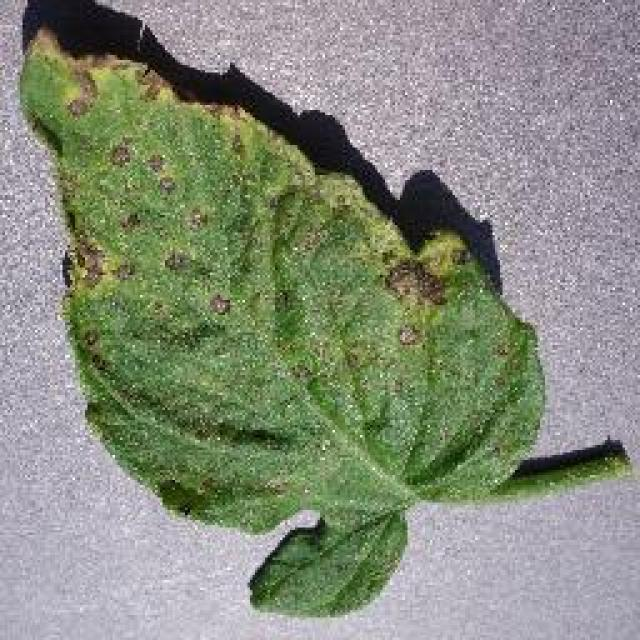Tomato___Septoria_leaf_spot: (20, 30, 628, 615)
